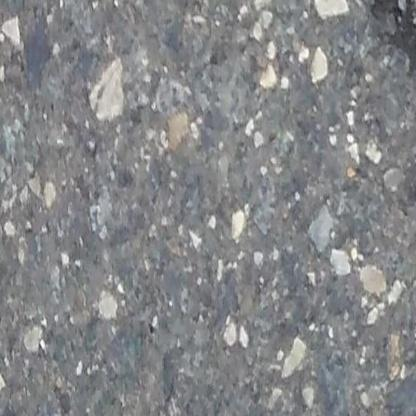Cracks: (356, 0, 416, 80)
